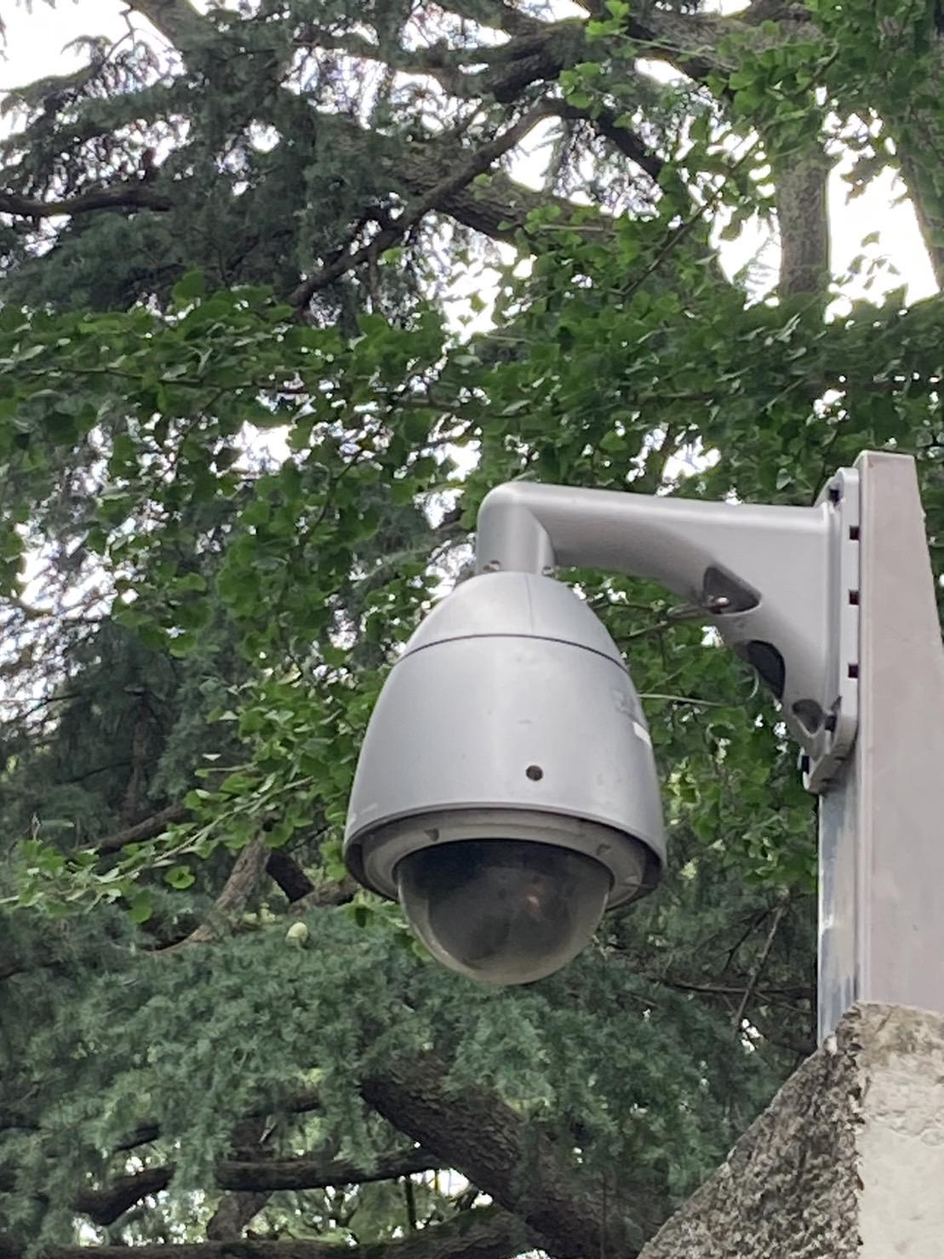maru: (352, 569, 684, 990)
